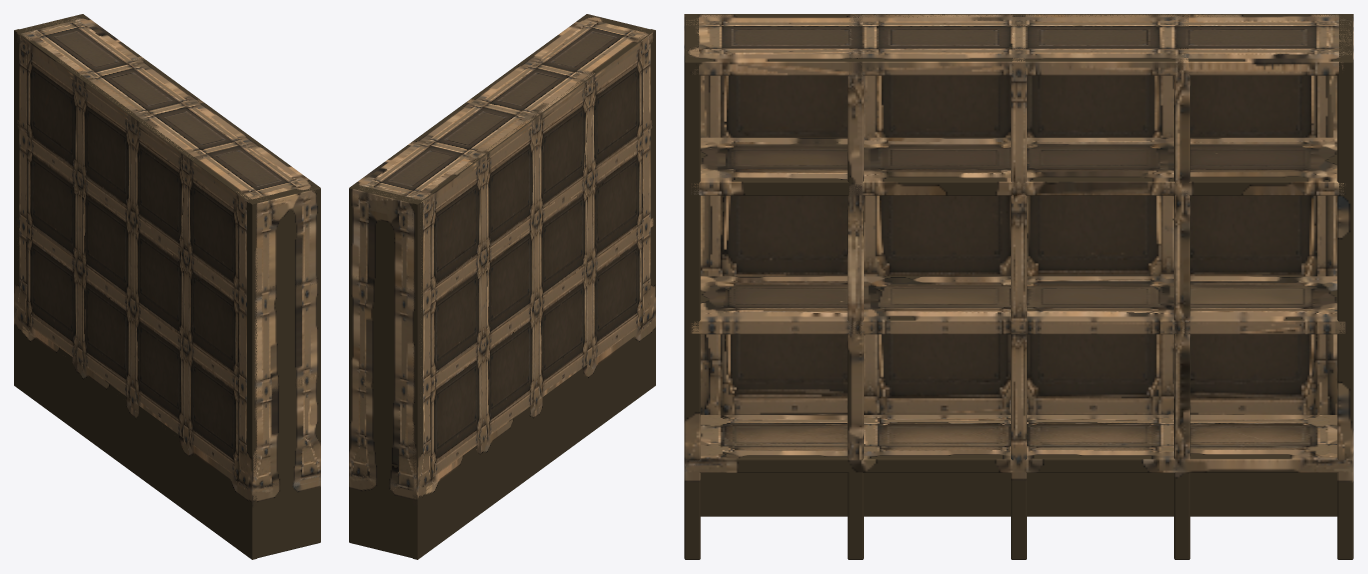
Rendered from stellazh-tryuma.glb.
3 views of the same model, side by side, from view 1: azimuth 30°, elevation 25°; view 2: azimuth 150°, elevation 25°; view 3: azimuth 270°, elevation 25° (orthographic). The views are drawn at different scales.
Visible parts, largest first — view 1: stellazh-tryuma; view 2: stellazh-tryuma; view 3: stellazh-tryuma.
Boxes of the visible parts, box(x1,y1,x2,y2) form: stellazh-tryuma: box(14, 14, 320, 559); stellazh-tryuma: box(349, 14, 655, 559); stellazh-tryuma: box(684, 14, 1353, 559).
Size of the model in its own units: 0.55 by 2.7 by 3.28.
1 material, 1 textured.
